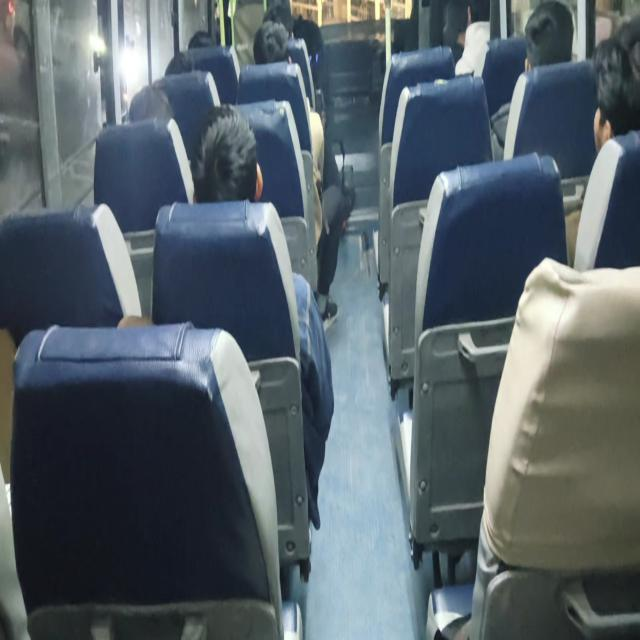person: (583, 25, 640, 156), (206, 118, 269, 205), (526, 2, 572, 88), (248, 12, 291, 74), (125, 78, 176, 128), (154, 44, 195, 85), (180, 24, 219, 65), (464, 0, 493, 47)
